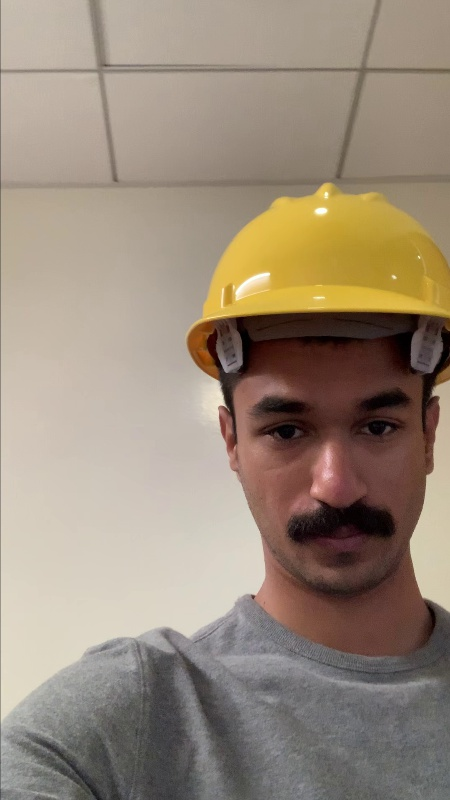helmet: (186, 189, 450, 324)
